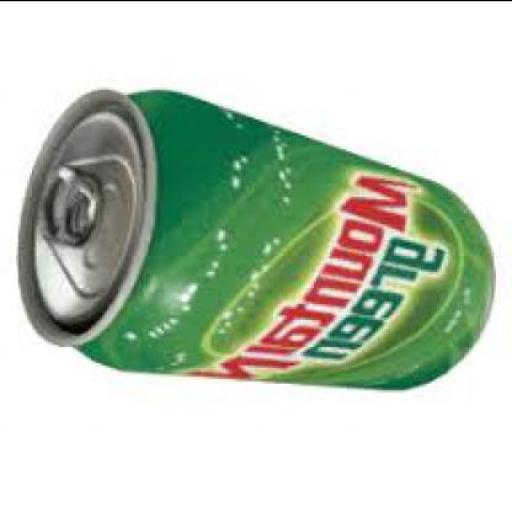metal: (14, 84, 491, 387)
